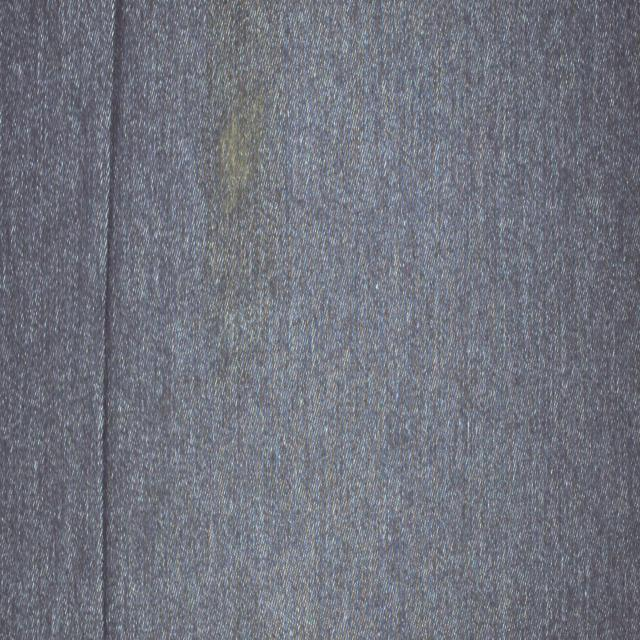Line: (98, 0, 128, 640)
Stain: (205, 1, 284, 376)
